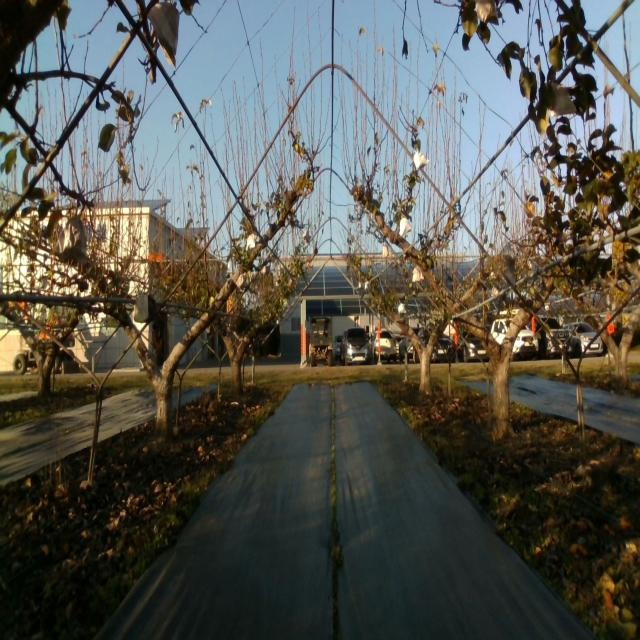pearbags: (146, 3, 180, 67), (55, 218, 86, 264), (549, 81, 577, 119), (475, 0, 498, 26), (504, 243, 516, 273), (414, 149, 429, 171), (399, 215, 412, 238)
